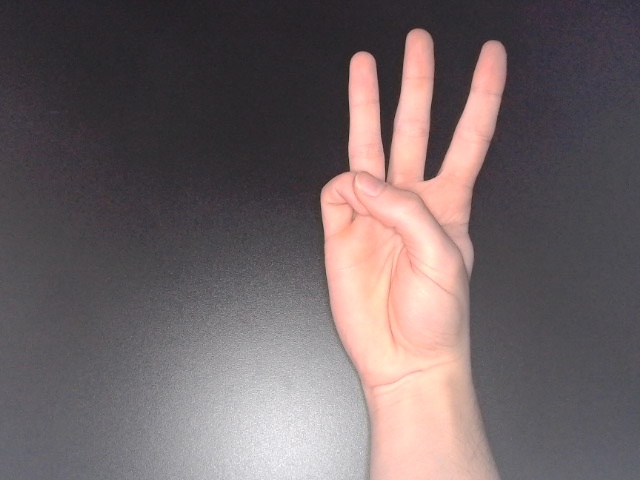w: (311, 23, 515, 404)
